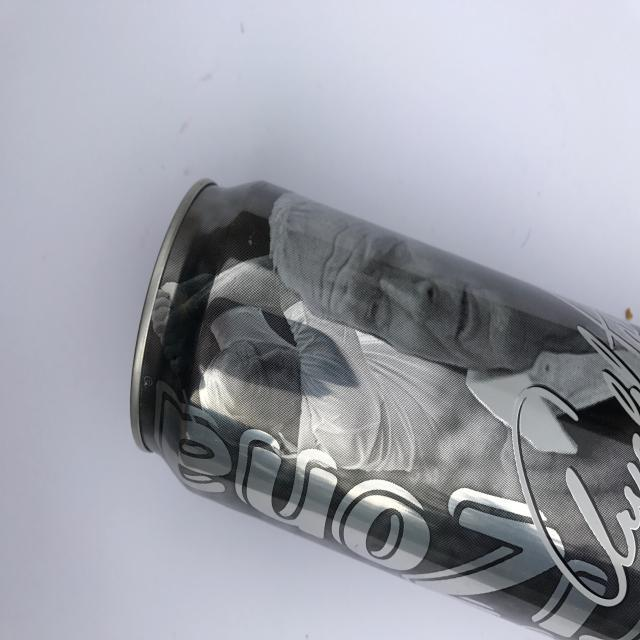metal: (130, 172, 640, 640)
